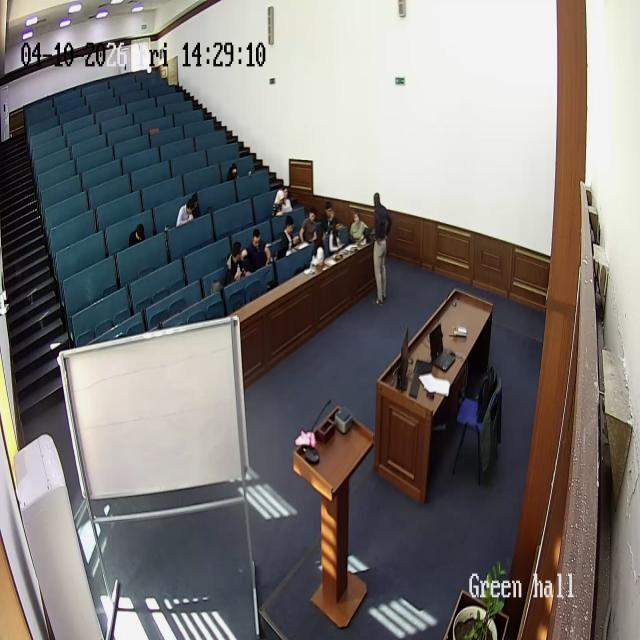person: (370, 191, 392, 303), (245, 228, 271, 273), (222, 241, 248, 284), (279, 215, 300, 258), (322, 201, 341, 248), (308, 225, 326, 271), (300, 207, 318, 246), (327, 217, 345, 254), (176, 194, 196, 226), (349, 211, 369, 241), (272, 186, 290, 216), (128, 222, 146, 246), (226, 162, 238, 182)
